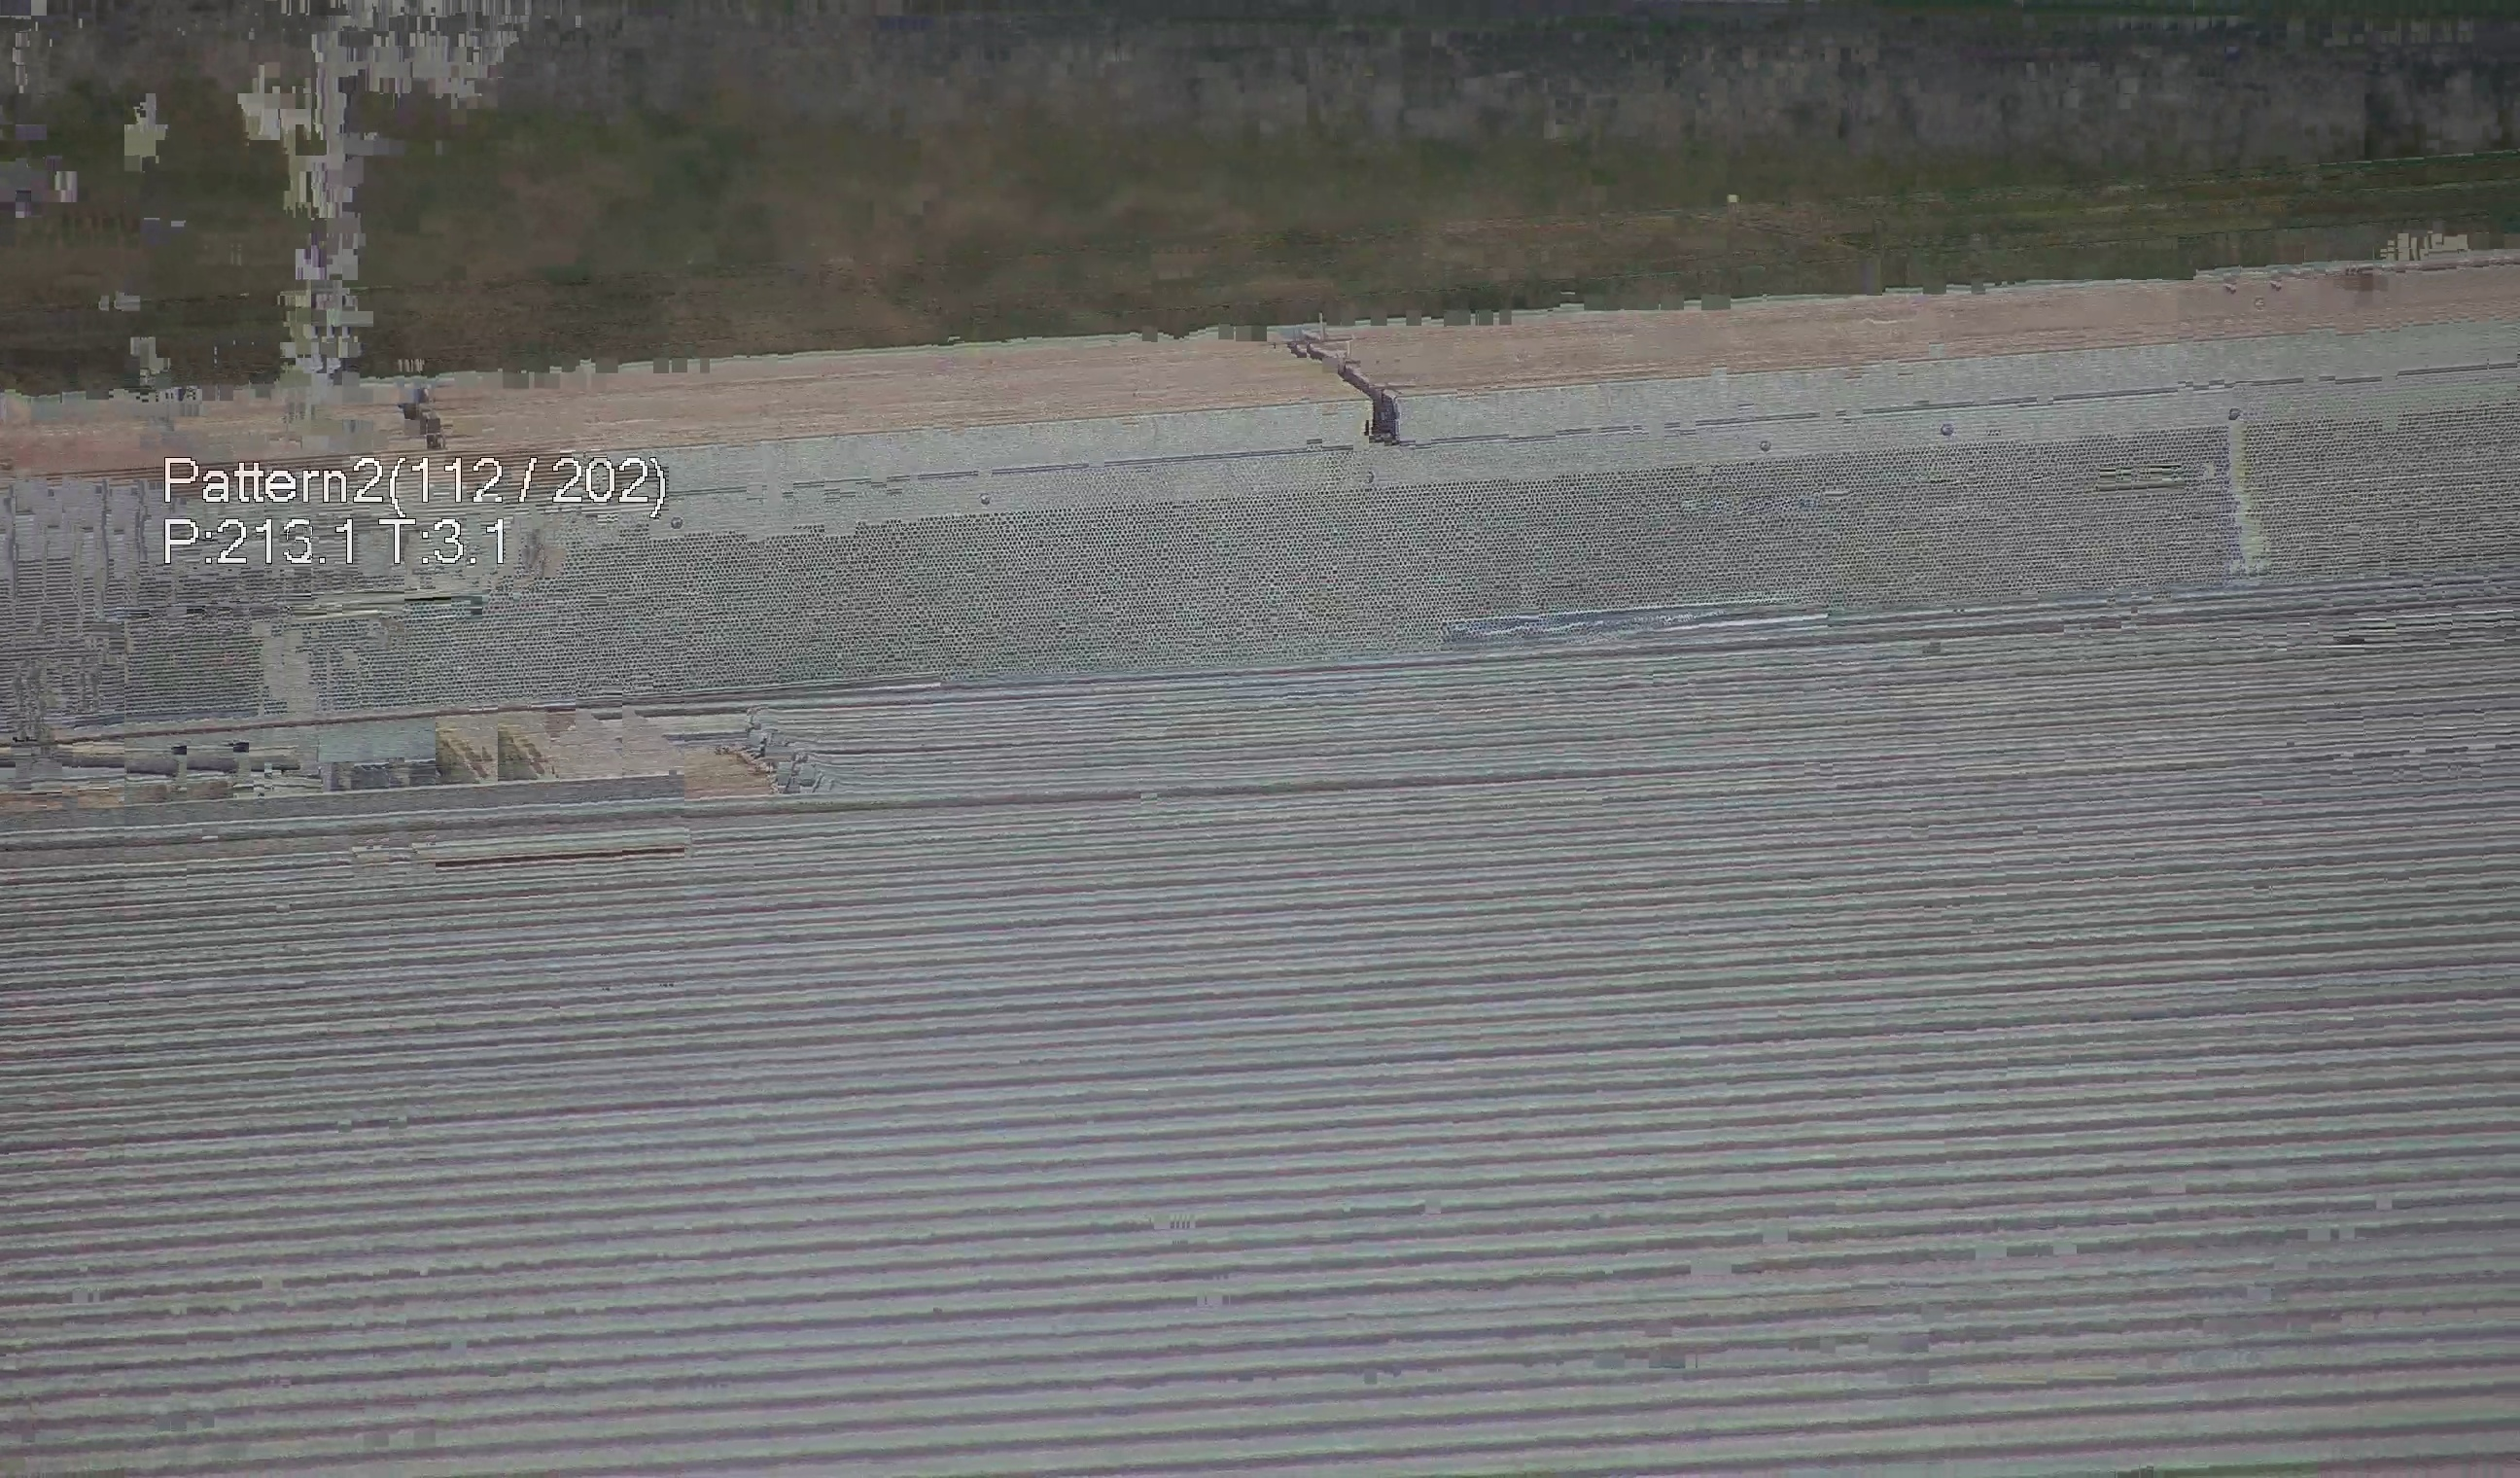Other: (1275, 306, 1412, 440)
